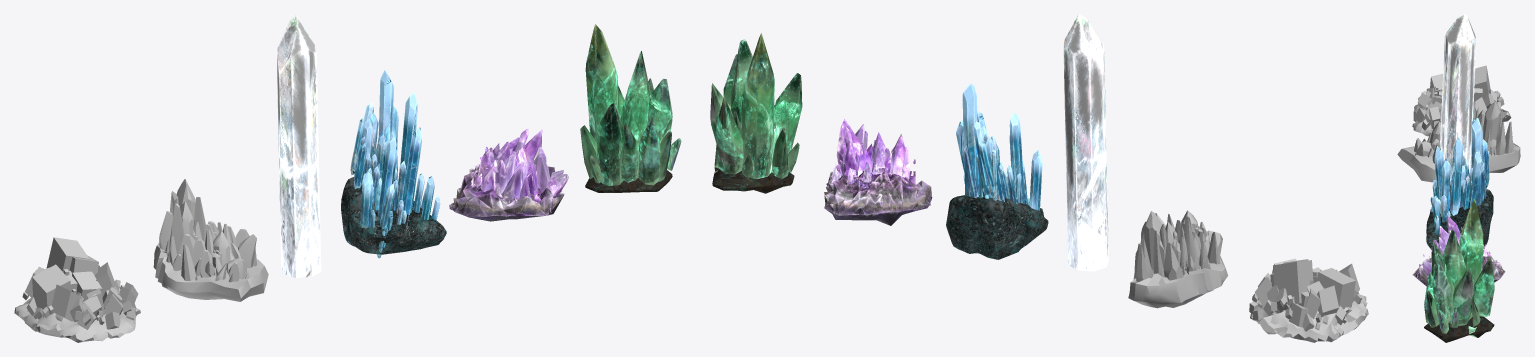
File: Crystals.fbx
3 views of the same model, side by side, from view 1: azimuth 30°, elevation 25°; view 2: azimuth 150°, elevation 25°; view 3: azimuth 270°, elevation 25° (orthographic). The views are drawn at different scales.
Visible parts, largest first — view 1: Green Crystals_Green Crystals_0, crystal_crystal_0, Crystals 2_Crystals 2_0, pyrite_pyrite_0, citrine quartz_citrine quartz_0, amethyst_amethyst_0, Crystals 2_Crystals 2_0.001, amethyst_amethyst_0.001, citrine quartz_citrine quartz_0.001, pyrite_pyrite_0.001, Green Crystals_Green Crystals_0.001; view 2: crystal_crystal_0, Green Crystals_Green Crystals_0, Crystals 2_Crystals 2_0, pyrite_pyrite_0, Crystals 2_Crystals 2_0.001, citrine quartz_citrine quartz_0, amethyst_amethyst_0.001, amethyst_amethyst_0, citrine quartz_citrine quartz_0.001, pyrite_pyrite_0.001, Green Crystals_Green Crystals_0.001; view 3: Green Crystals_Green Crystals_0, crystal_crystal_0, Crystals 2_Crystals 2_0, pyrite_pyrite_0, citrine quartz_citrine quartz_0, citrine quartz_citrine quartz_0.001, Crystals 2_Crystals 2_0.001, Green Crystals_Green Crystals_0.001, amethyst_amethyst_0, amethyst_amethyst_0.001, pyrite_pyrite_0.001.
Boxes of the visible parts, <box> form: Green Crystals_Green Crystals_0: <box>580,24,681,185</box>; crystal_crystal_0: <box>276,14,321,277</box>; Crystals 2_Crystals 2_0: <box>350,70,440,258</box>; pyrite_pyrite_0: <box>22,237,138,329</box>; citrine quartz_citrine quartz_0: <box>159,179,256,282</box>; amethyst_amethyst_0: <box>471,128,568,204</box>; Crystals 2_Crystals 2_0.001: <box>341,177,446,254</box>; amethyst_amethyst_0.001: <box>449,163,564,221</box>; citrine quartz_citrine quartz_0.001: <box>153,243,268,301</box>; pyrite_pyrite_0.001: <box>14,298,140,342</box>; Green Crystals_Green Crystals_0.001: <box>585,170,672,192</box>; crystal_crystal_0: <box>1063,14,1108,271</box>; Green Crystals_Green Crystals_0: <box>710,33,802,179</box>; Crystals 2_Crystals 2_0: <box>956,83,1042,210</box>; pyrite_pyrite_0: <box>1249,258,1361,331</box>; Crystals 2_Crystals 2_0.001: <box>946,195,1048,259</box>; citrine quartz_citrine quartz_0: <box>1134,210,1220,281</box>; amethyst_amethyst_0.001: <box>824,168,932,225</box>; amethyst_amethyst_0: <box>831,119,915,184</box>; citrine quartz_citrine quartz_0.001: <box>1128,230,1228,308</box>; pyrite_pyrite_0.001: <box>1250,294,1368,342</box>; Green Crystals_Green Crystals_0.001: <box>712,167,794,193</box>; Green Crystals_Green Crystals_0: <box>1424,199,1494,333</box>; crystal_crystal_0: <box>1439,14,1476,178</box>; Crystals 2_Crystals 2_0: <box>1430,117,1489,234</box>; pyrite_pyrite_0: <box>1415,65,1504,130</box>; citrine quartz_citrine quartz_0: <box>1414,100,1513,163</box>; citrine quartz_citrine quartz_0.001: <box>1397,142,1520,182</box>; Crystals 2_Crystals 2_0.001: <box>1426,189,1493,249</box>; Green Crystals_Green Crystals_0.001: <box>1424,316,1494,342</box>; amethyst_amethyst_0: <box>1422,217,1489,275</box>; amethyst_amethyst_0.001: <box>1412,249,1505,286</box>; pyrite_pyrite_0.001: <box>1412,104,1511,136</box>.
Bounding box in the file's own units: 188 × 70.34 × 40.46.
